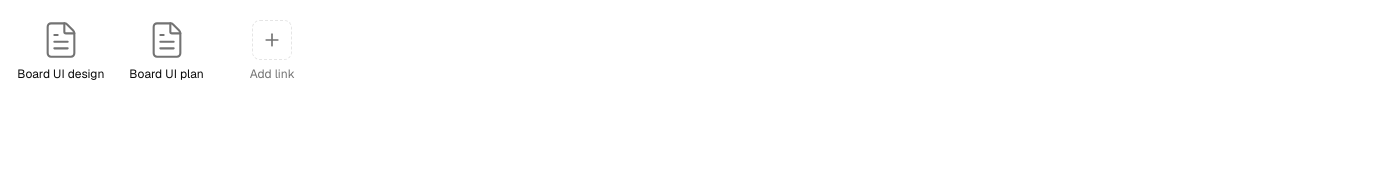
Test: clicking a tile shows that document in place of the grid
What coordinates should you click on to do the following:
click the button "Board UI plan"
I would click on:
 (167, 51)
Its box is [118,12,215,90].
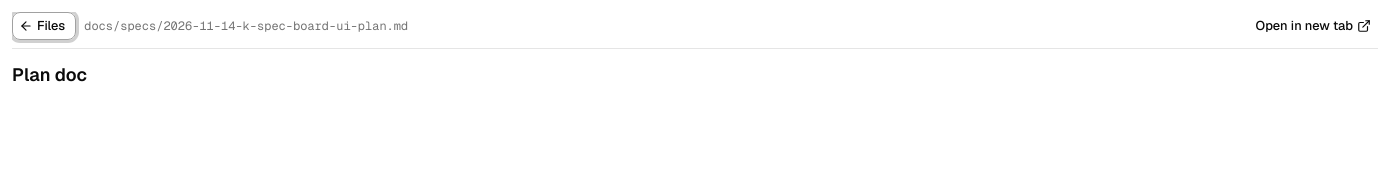
Result: the heading "Plan doc" is shown at [12,63,87,86]
Result: the text "docs/specs/2026-11-14-k-spec-board-ui-plan.md" is shown at [84,18,408,34]
Result: the button "Board UI design" is gone
